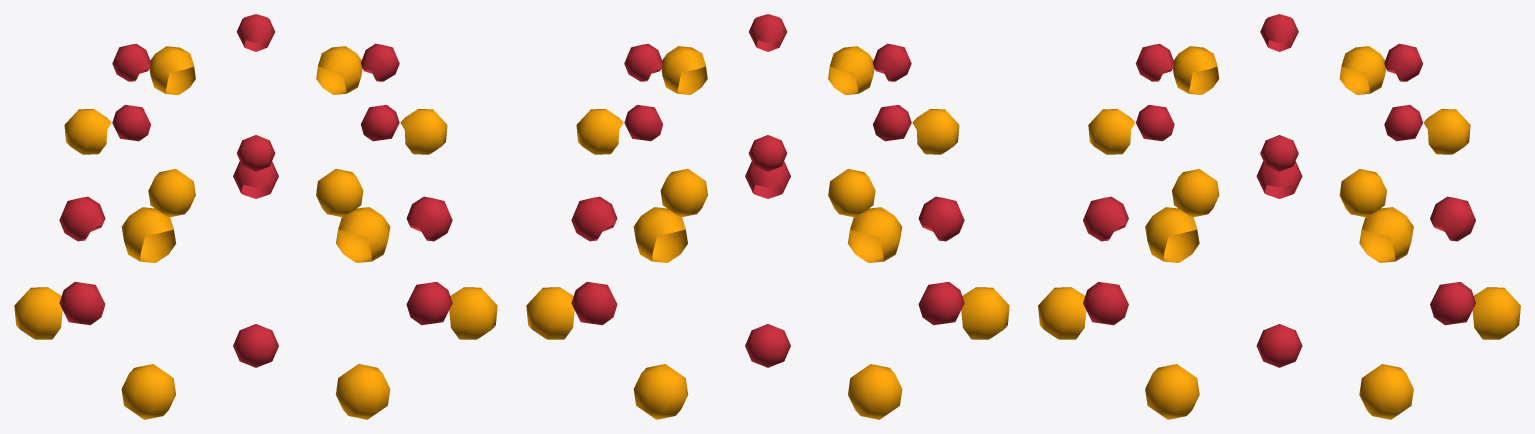
File: Christmass_tree_outdoor_002_toys.fbx
The picture shows the model from 3 angles, left to right: view 1: azimuth 30°, elevation 25°; view 2: azimuth 150°, elevation 25°; view 3: azimuth 270°, elevation 25°; orthographic projection.
Parts seen in each view (by area): view 1: Christmass_tree_outdoor_002_toys; view 2: Christmass_tree_outdoor_002_toys; view 3: Christmass_tree_outdoor_002_toys.
Boxes of the visible parts, left/top/right/bottom form: Christmass_tree_outdoor_002_toys: left=14, top=14, right=497, bottom=419; Christmass_tree_outdoor_002_toys: left=526, top=14, right=1009, bottom=419; Christmass_tree_outdoor_002_toys: left=1038, top=14, right=1520, bottom=419.
Bounding box in the file's own units: 188 × 203 × 122.
